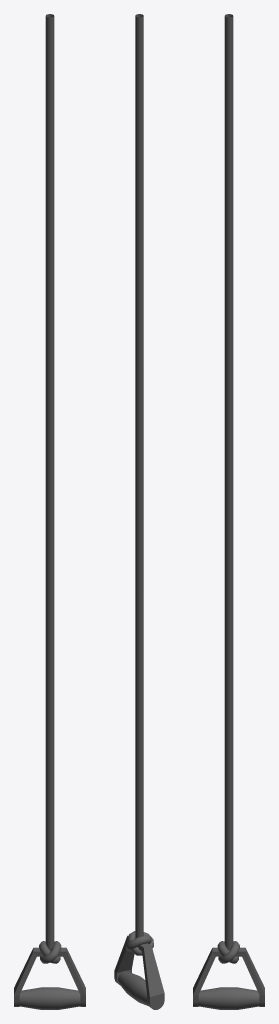
File: SM_corde.fbx
3 renders of one model, left to right at view 1: azimuth 90°, elevation 25°; view 2: azimuth 210°, elevation 25°; view 3: azimuth 270°, elevation 25°, orthographic.
Visible parts, largest first — view 1: SM_corde; view 2: SM_corde; view 3: SM_corde.
Part boxes in pixels (<box>): SM_corde: <box>14,14,85,1009</box>; SM_corde: <box>114,14,164,1009</box>; SM_corde: <box>193,14,264,1009</box>.
Bounding box in the file's own units: 0.0915 × 3.2 × 0.2095.
Materials: 1 (1 with a texture image).
